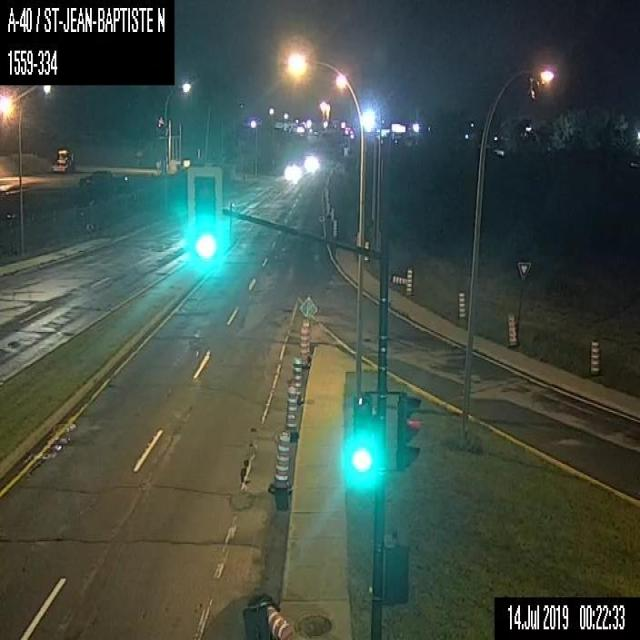construction: (243, 592, 291, 639), (266, 430, 290, 492), (282, 387, 298, 438), (291, 354, 302, 402), (299, 320, 310, 368), (588, 339, 599, 372), (456, 289, 466, 319), (508, 315, 516, 345), (405, 265, 412, 296), (363, 239, 370, 261), (392, 274, 407, 284), (330, 206, 334, 222), (333, 219, 336, 236), (326, 201, 329, 216)
vehicle: (80, 170, 128, 191), (52, 147, 74, 173)
